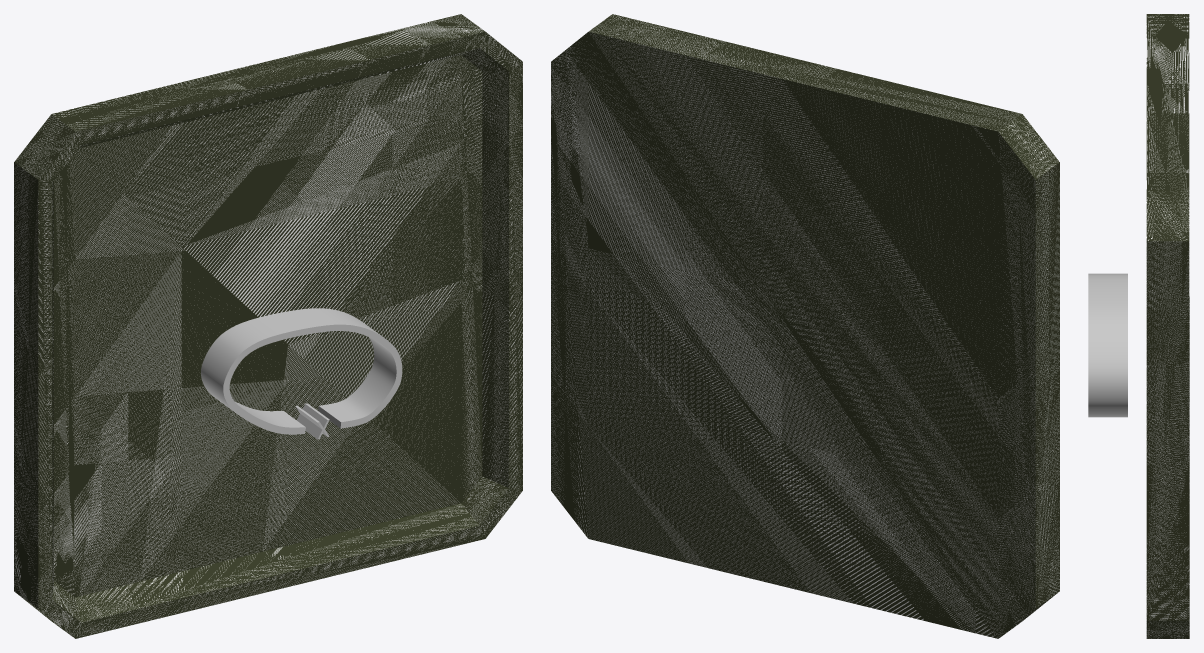
The model's file is CM_-_X_Harbour.obj.
3 renders of one model, left to right at view 1: azimuth 30°, elevation 25°; view 2: azimuth 150°, elevation 25°; view 3: azimuth 270°, elevation 25°, orthographic. The views are drawn at different scales.
Visible parts, largest first — view 1: Button.001_ID13, Button_ID3, SM_CM_-_X_Harbour_path1763-2.103; view 2: Button_ID3; view 3: Button_ID3, SM_CM_-_X_Harbour_path1763-2.103.
Part boxes in pixels (bbox=[...]): Button.001_ID13: bbox=[52, 48, 508, 622]; Button_ID3: bbox=[14, 14, 522, 638]; SM_CM_-_X_Harbour_path1763-2.103: bbox=[201, 308, 402, 439]; Button_ID3: bbox=[551, 14, 1059, 638]; Button_ID3: bbox=[1146, 14, 1189, 638]; SM_CM_-_X_Harbour_path1763-2.103: bbox=[1088, 273, 1127, 417].
Bounding box in the file's own units: 1 × 1 × 0.2044.
